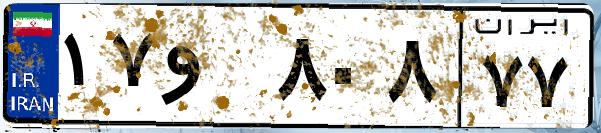0: (330, 28, 385, 110)
1: (57, 26, 110, 100)
7: (475, 38, 525, 113), (525, 38, 570, 115), (110, 28, 158, 98)
8: (270, 28, 330, 110), (385, 28, 445, 110)
و: (158, 20, 270, 120)
